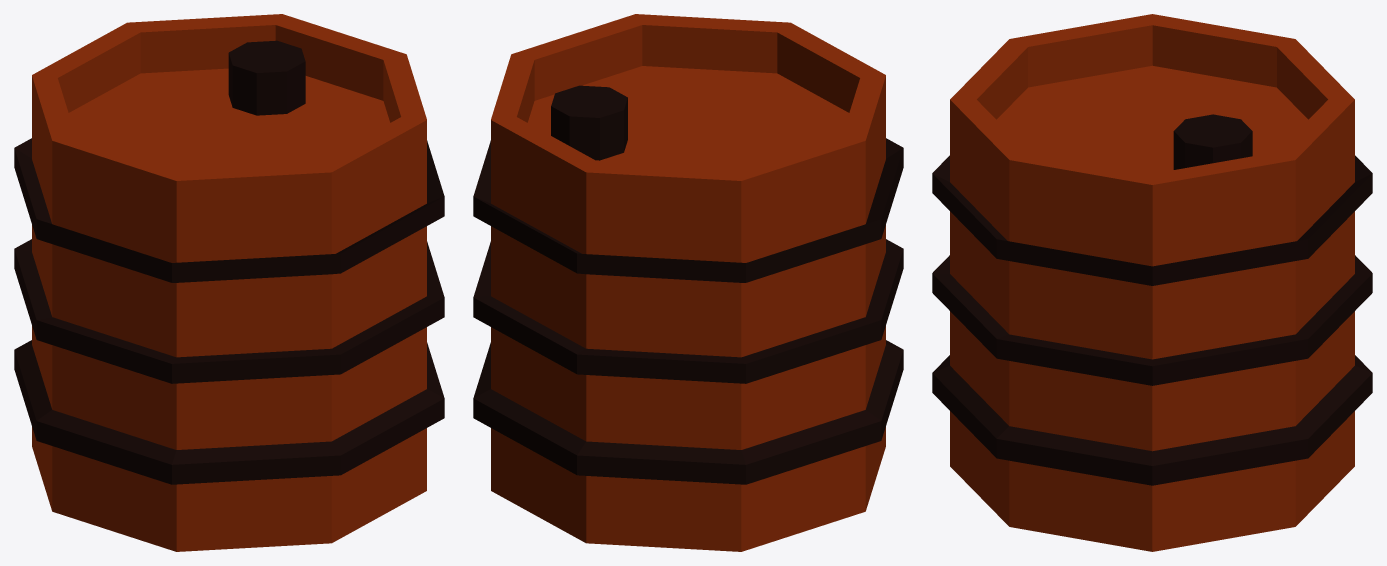
The model's file is Barril.fbx.
The picture shows the model from 3 angles, left to right: view 1: azimuth 30°, elevation 25°; view 2: azimuth 150°, elevation 25°; view 3: azimuth 270°, elevation 25°; orthographic projection.
Visible parts, largest first — view 1: Barril; view 2: Barril; view 3: Barril.
Boxes of the visible parts, bbox=[...] form: Barril: bbox=[14, 14, 444, 551]; Barril: bbox=[473, 14, 903, 551]; Barril: bbox=[932, 14, 1372, 551].
Bounding box in the file's own units: 218 × 201 × 218.
